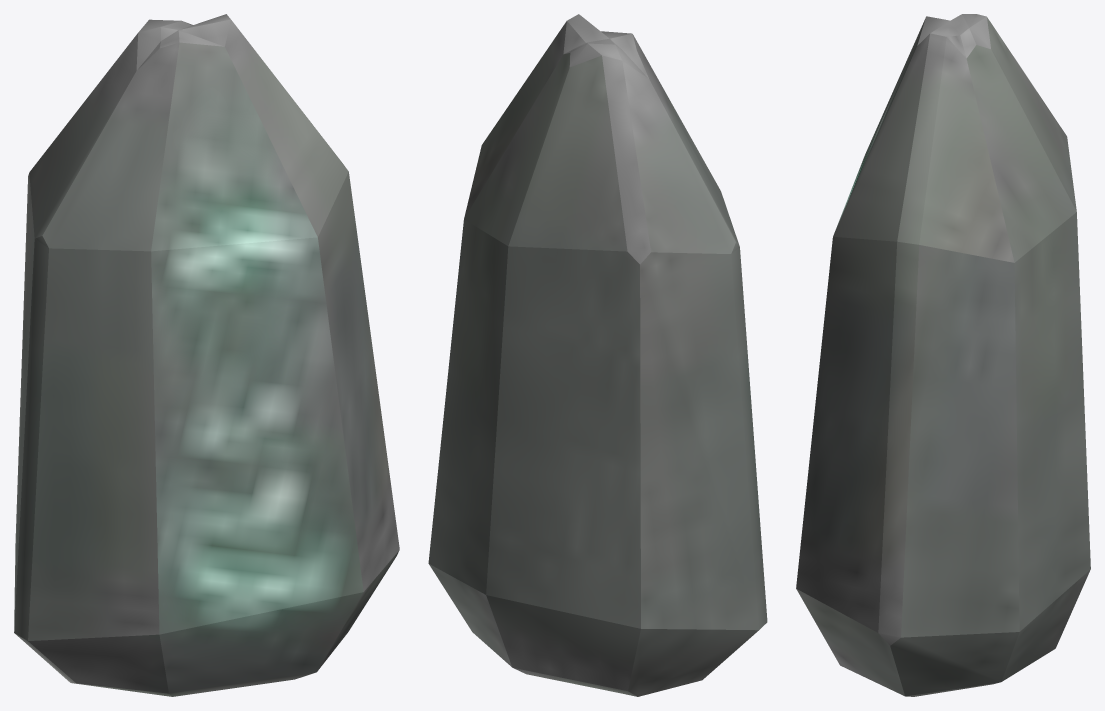
Rendered from sc_rock_5.glb.
3 renders of one model, left to right at view 1: azimuth 30°, elevation 25°; view 2: azimuth 150°, elevation 25°; view 3: azimuth 270°, elevation 25°, orthographic. The views are drawn at different scales.
Parts seen in each view (by area): view 1: 24 · Rune stone – tide; view 2: 24 · Rune stone – tide; view 3: 24 · Rune stone – tide.
Part boxes in pixels (box(x1,y1,x2,y2)): 24 · Rune stone – tide: box(14, 14, 399, 696); 24 · Rune stone – tide: box(428, 14, 767, 696); 24 · Rune stone – tide: box(796, 14, 1090, 696).
Size of the model in its own units: 0.9378 by 1.65 by 0.7042.
Materials: 1 (1 with a texture image).
